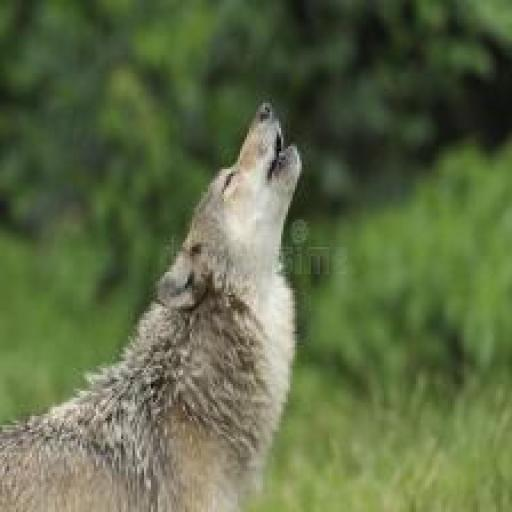wolf: (0, 93, 317, 512)
